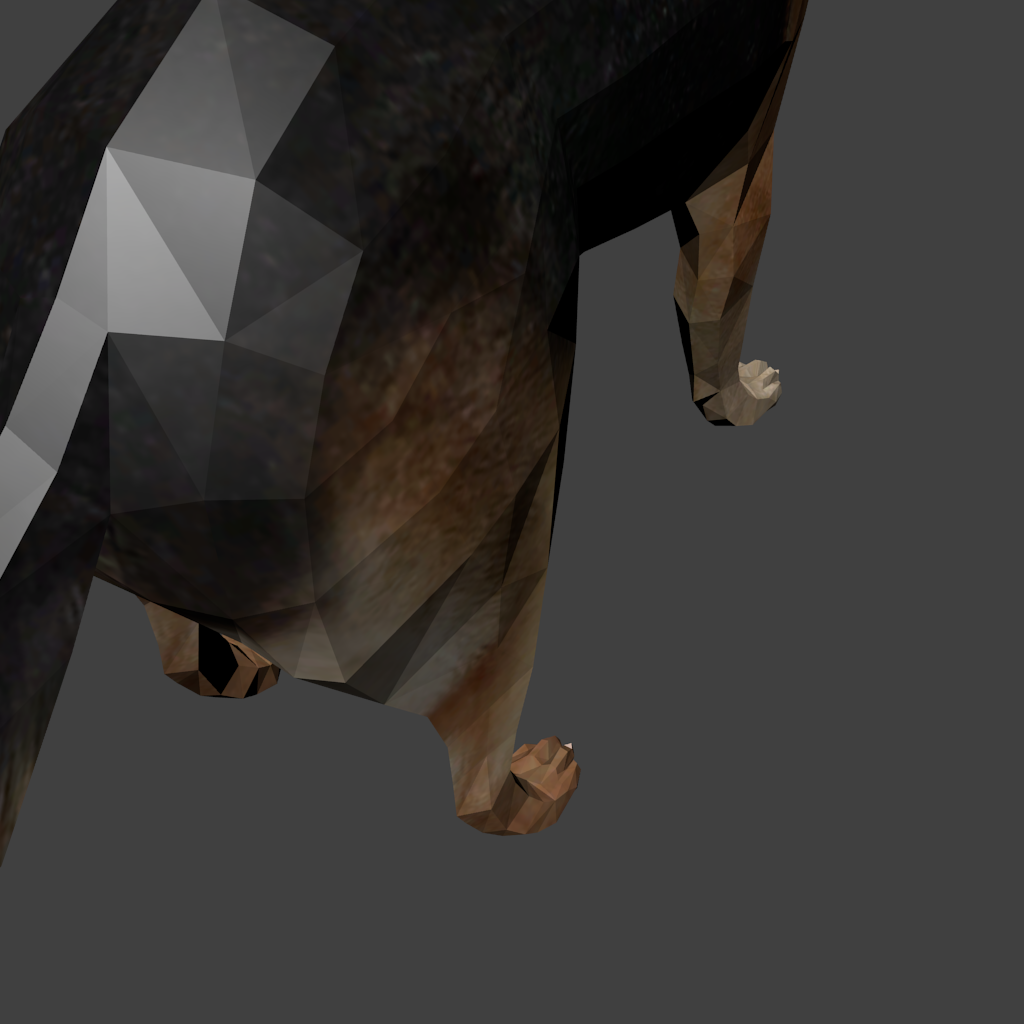Dog: (0, 0, 1009, 1024)
